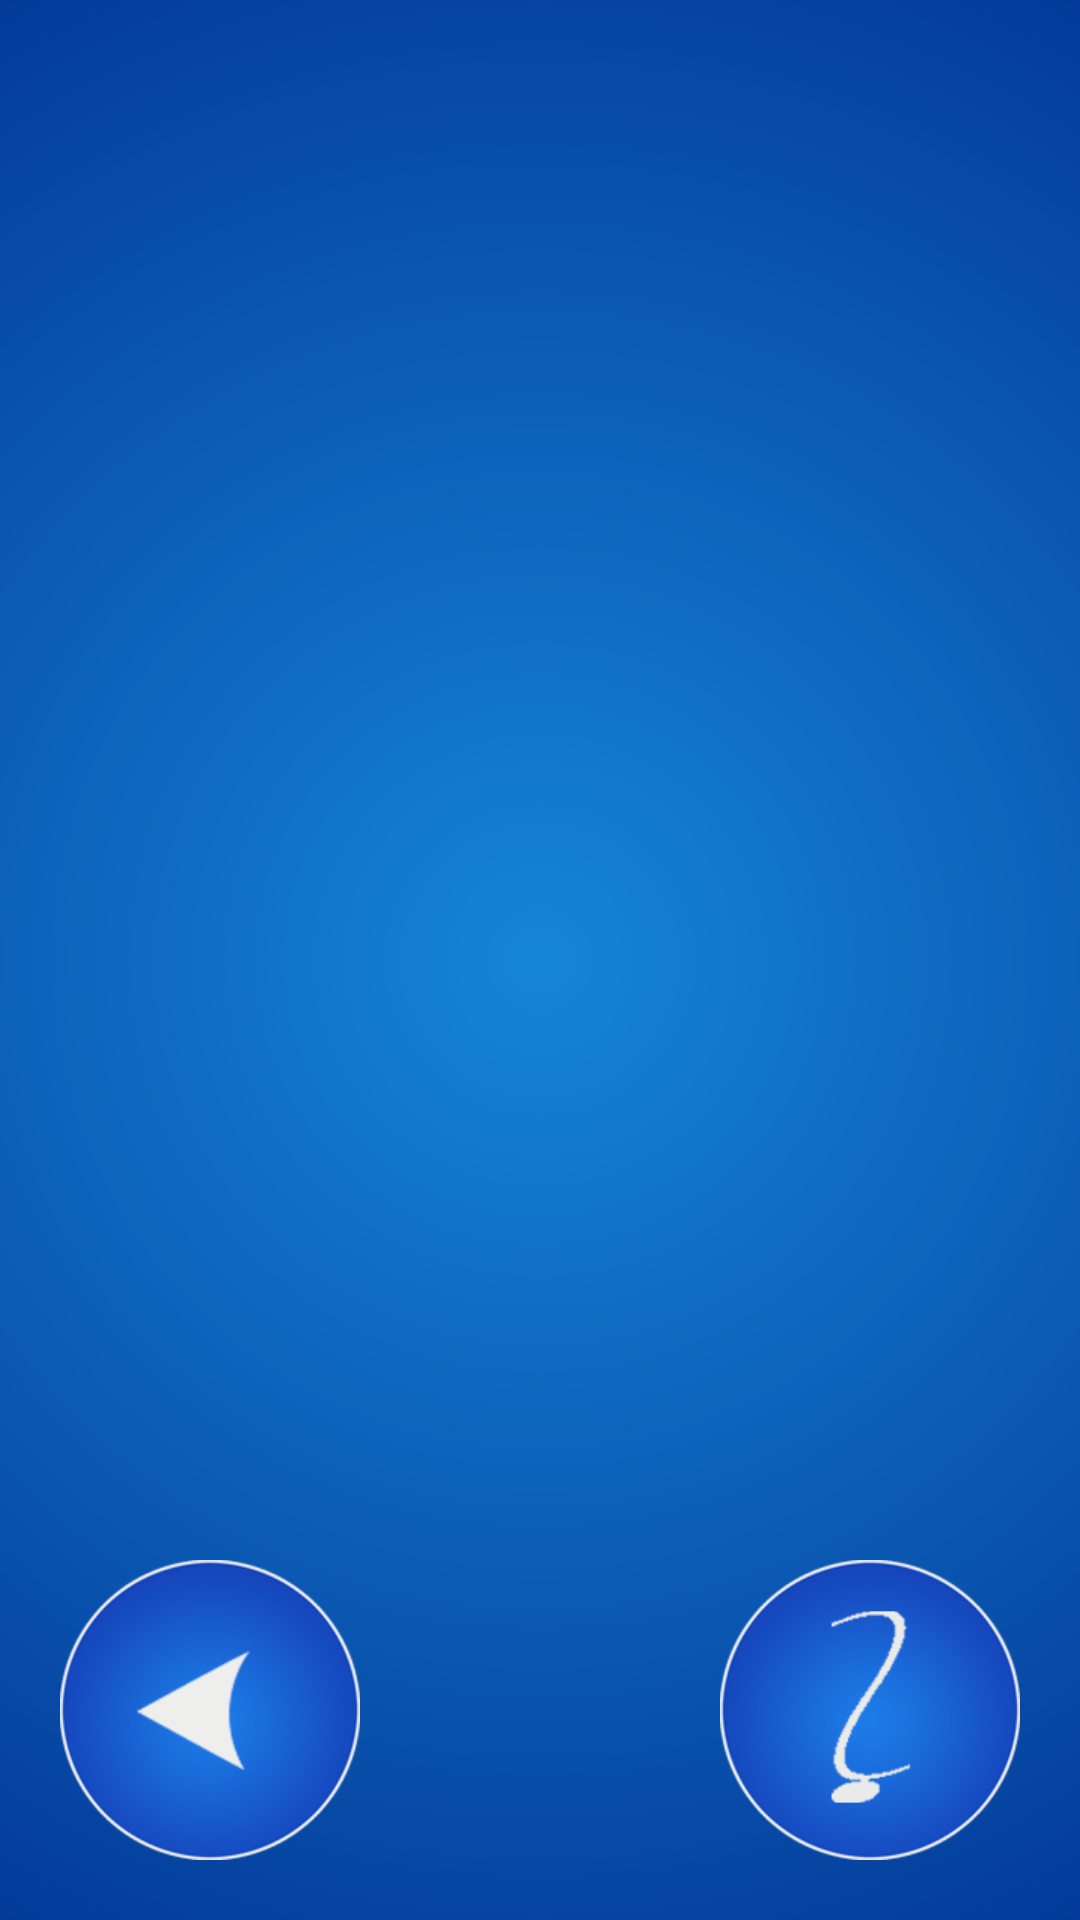

Named icons in this screenshot (1080px×1920px) and their bounding boxes, (x1, y1, x2, y2):
back: (60, 1560, 360, 1860)
help: (720, 1560, 1020, 1860)
